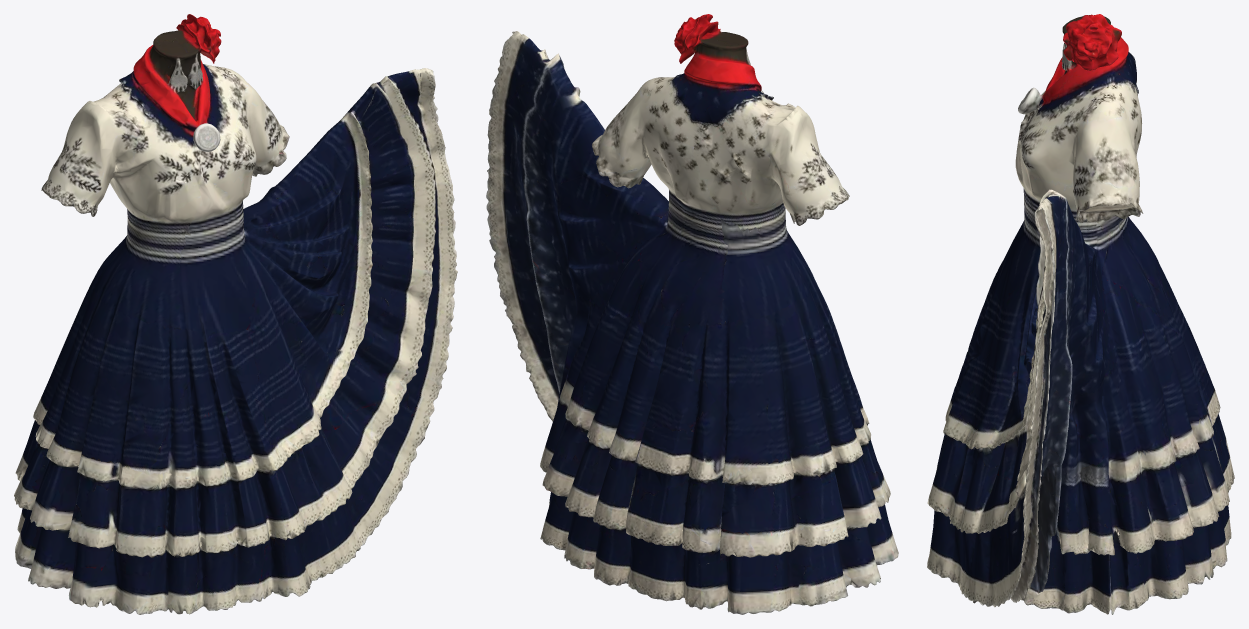
The model's file is 01-marinera-vestido.glb.
3 views of the same model, side by side, from view 1: azimuth 30°, elevation 25°; view 2: azimuth 150°, elevation 25°; view 3: azimuth 270°, elevation 25° (orthographic). The views are drawn at different scales.
Bounding box in the file's own units: 1.5 × 1.9 × 0.9682.
Materials: 1 (1 with a texture image).
